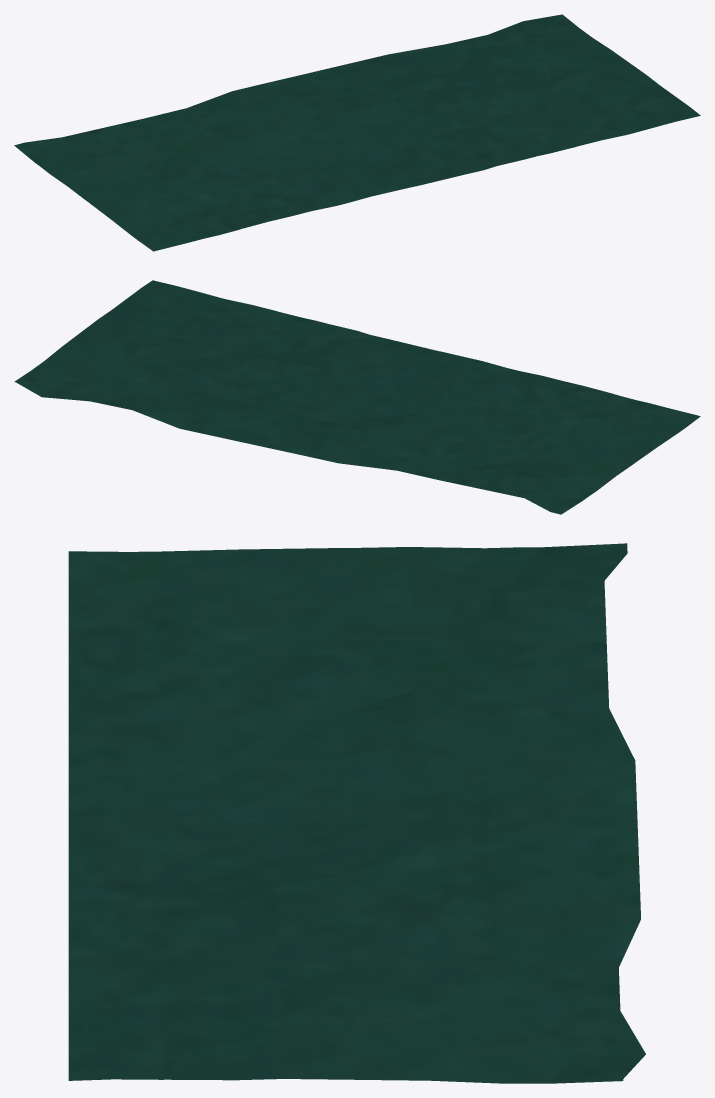
3 views of the same model, one above another, from view 1: azimuth 30°, elevation 25°; view 2: azimuth 150°, elevation 25°; view 3: azimuth 270°, elevation 25° (orthographic). The views are drawn at different scales.
Size of the model in its own units: 52.22 by 0.6083 by 23.85.
Materials: 1 (1 with a texture image).
